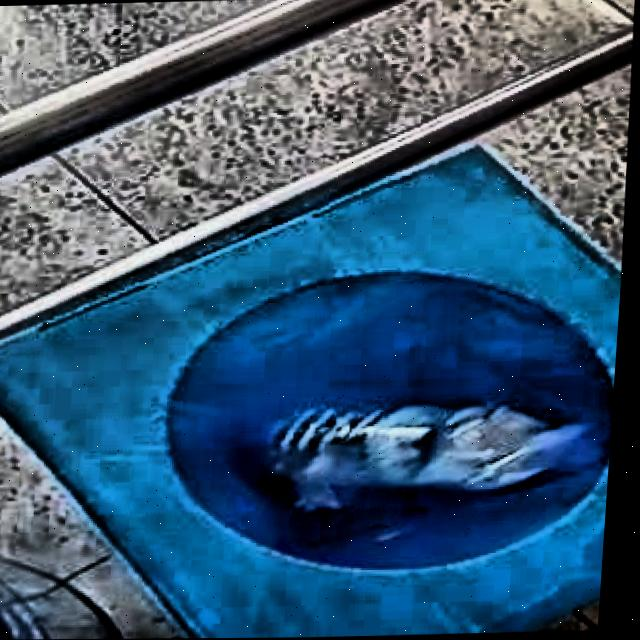plastic: (272, 406, 590, 511)
